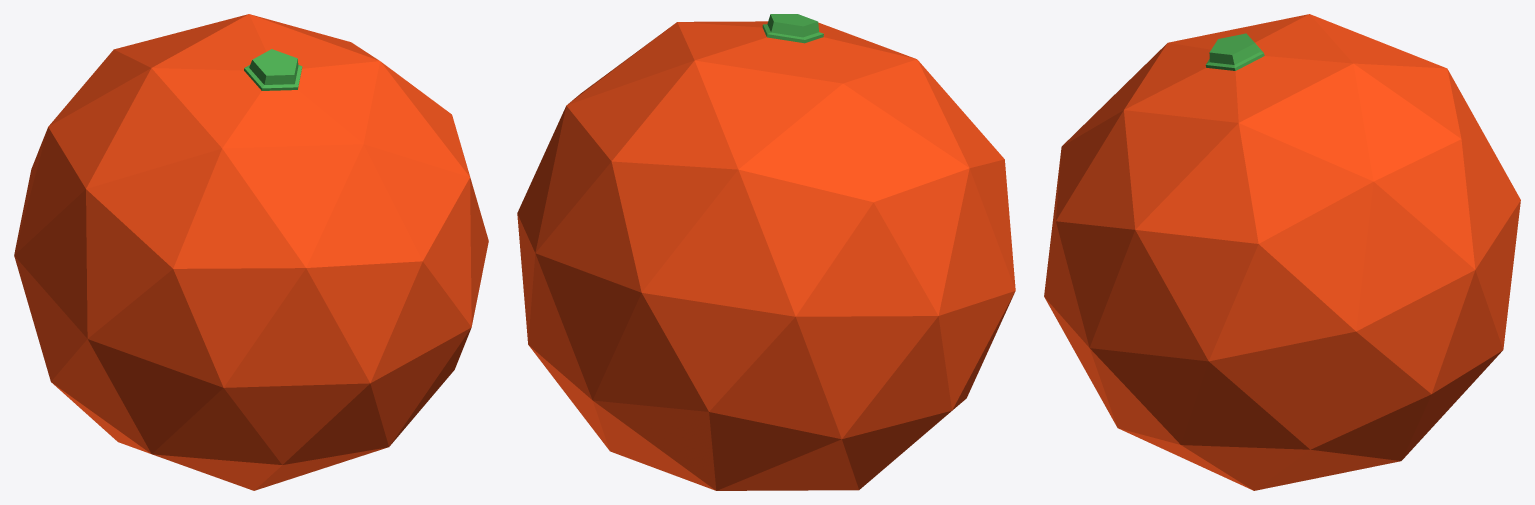
The picture shows the model from 3 angles, left to right: view 1: azimuth 30°, elevation 25°; view 2: azimuth 150°, elevation 25°; view 3: azimuth 270°, elevation 25°; orthographic projection. The views are drawn at different scales.
Parts seen in each view (by area): view 1: Icosphere; view 2: Icosphere; view 3: Icosphere.
Part boxes in pixels (box(x1,y1,x2,y2)): Icosphere: box(14, 14, 488, 490); Icosphere: box(517, 14, 1015, 490); Icosphere: box(1044, 14, 1520, 490).
Bounding box in the file's own units: 10.09 × 9.97 × 10.36.
